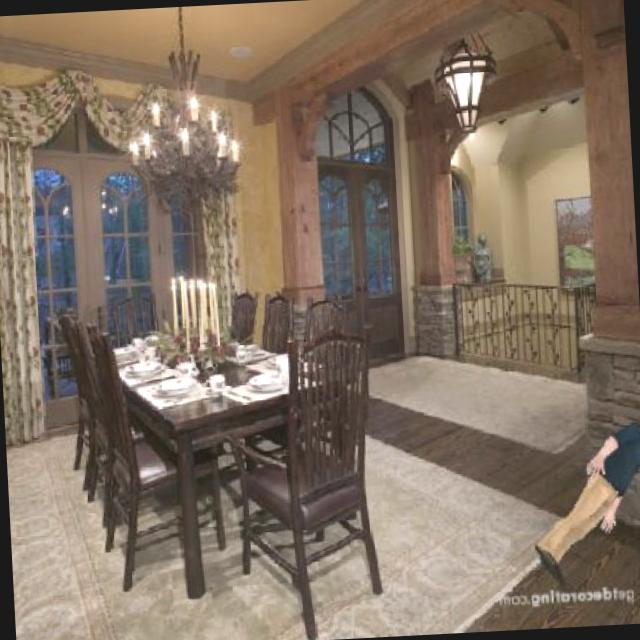Person: (528, 412, 640, 589)
